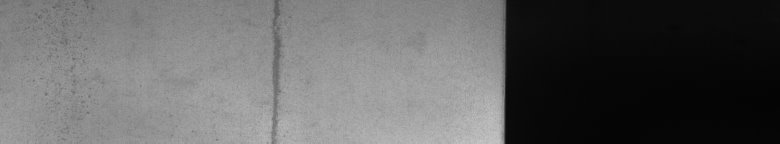hd: (265, 4, 285, 136)
